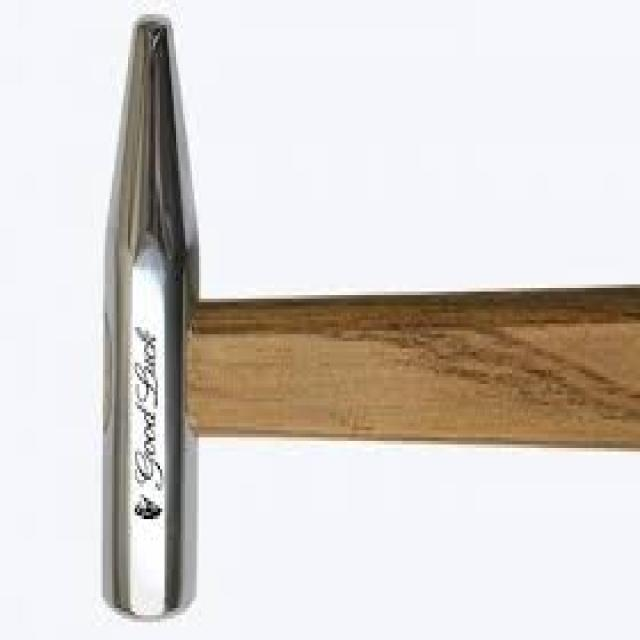Palu: (67, 21, 640, 628)
